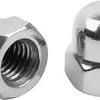Thread: (1, 38, 48, 92)
